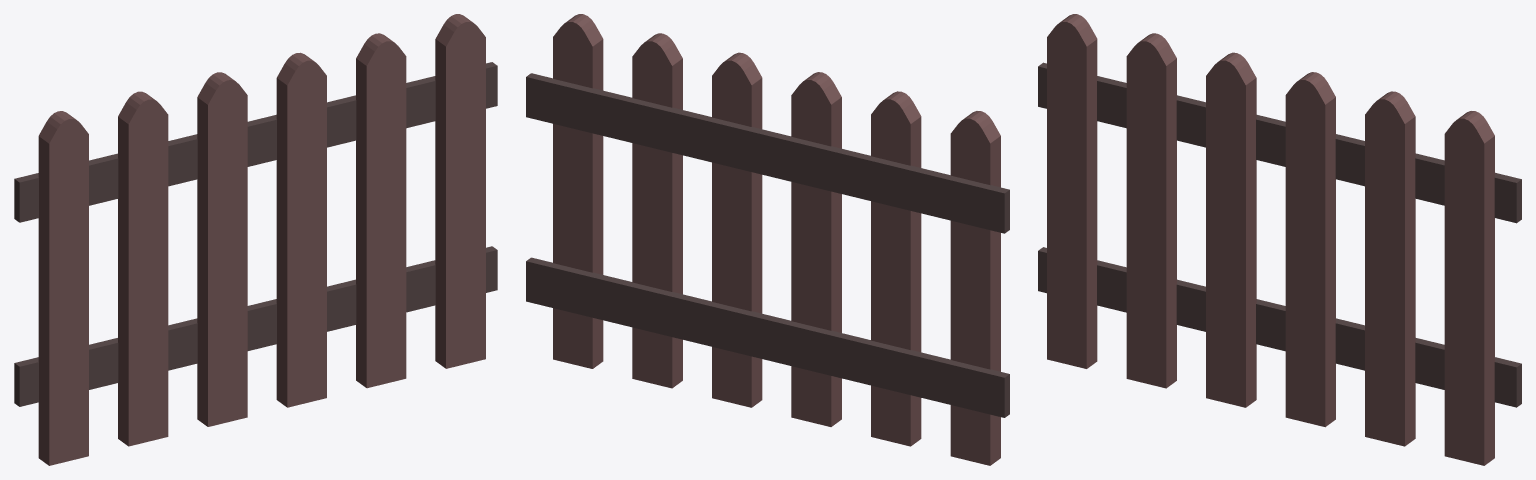
File: Fence01.fbx
3 renders of one model, left to right at view 1: azimuth 30°, elevation 25°; view 2: azimuth 150°, elevation 25°; view 3: azimuth 330°, elevation 25°, orthographic.
Visible parts, largest first — view 1: Cube.002; view 2: Cube.002; view 3: Cube.002.
Boxes of the visible parts, <box> form: Cube.002: <box>14,14,497,465</box>; Cube.002: <box>526,14,1009,465</box>; Cube.002: <box>1038,14,1521,465</box>.
Size of the model in its own units: 23.22 by 15.87 by 1.32.
